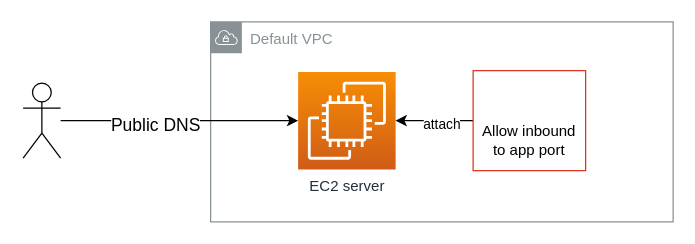
Image size: 695x244. Some labels were removed from this diagram. The box of each missing label's shape, as (x1, y1, x2, y2) in pixels:
Actor: (22, 82, 61, 158)
Security group: (472, 69, 586, 171)
